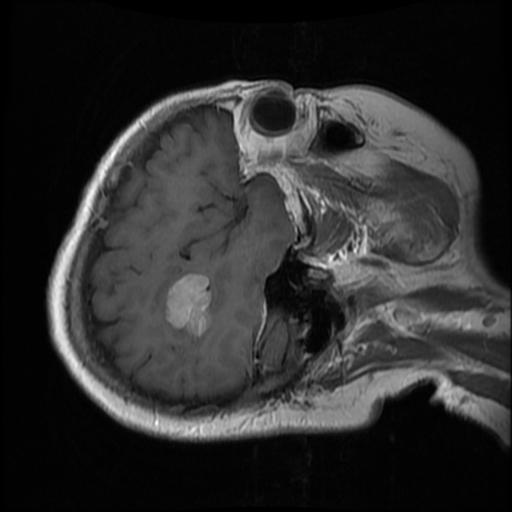meningioma: (163, 274, 210, 335)
